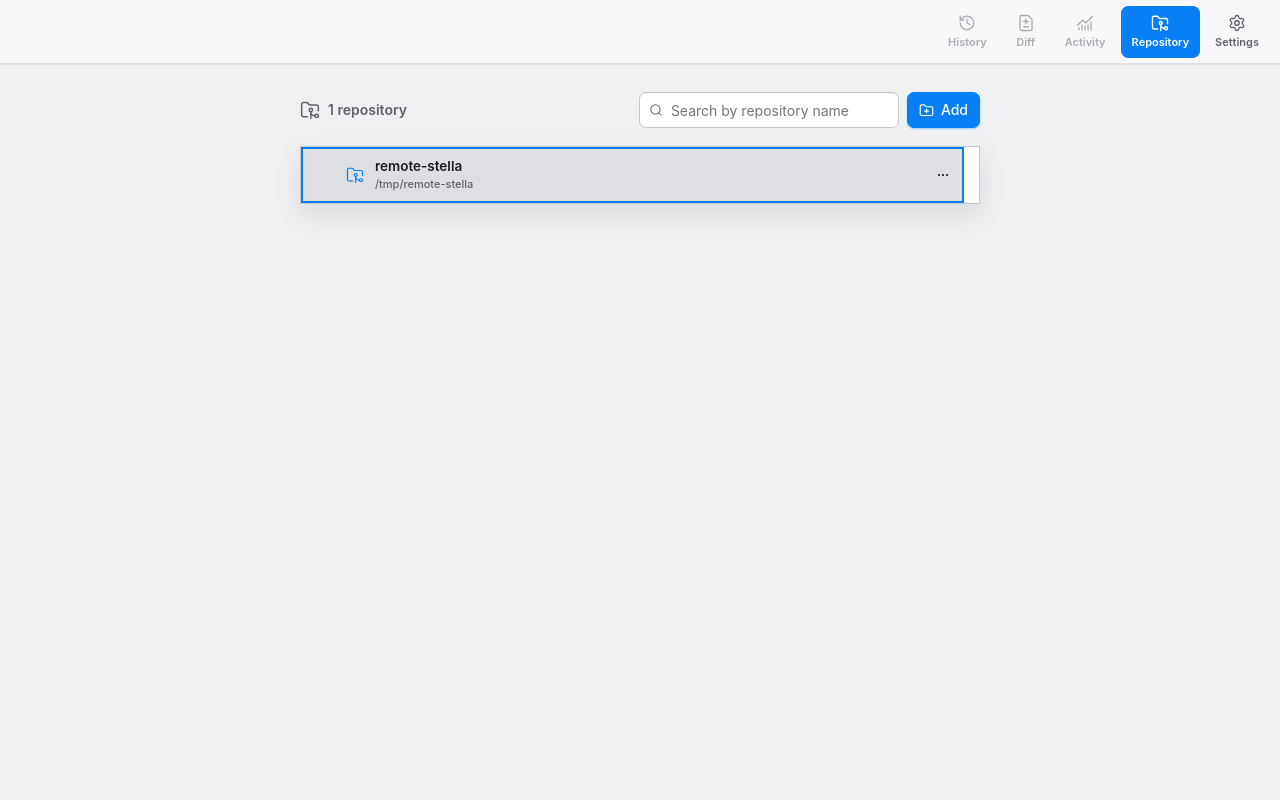
Test: App repository attach › opens repository dialogs over the repository landing without navigating away
Click the button named "More actions for remote-stella" at (943, 175), box [930,162,956,188]
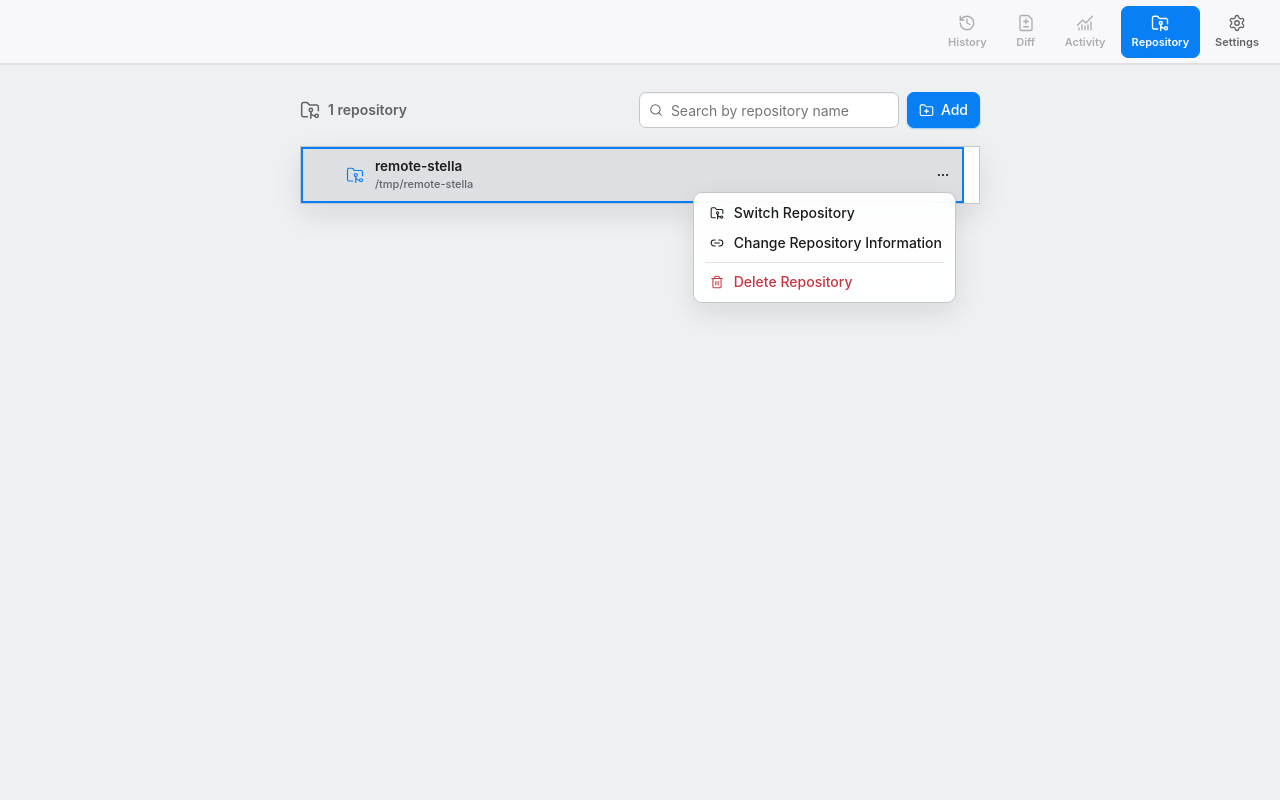
Click the menu item "Change Repository Information" at (824, 243), box [699,228,950,258]
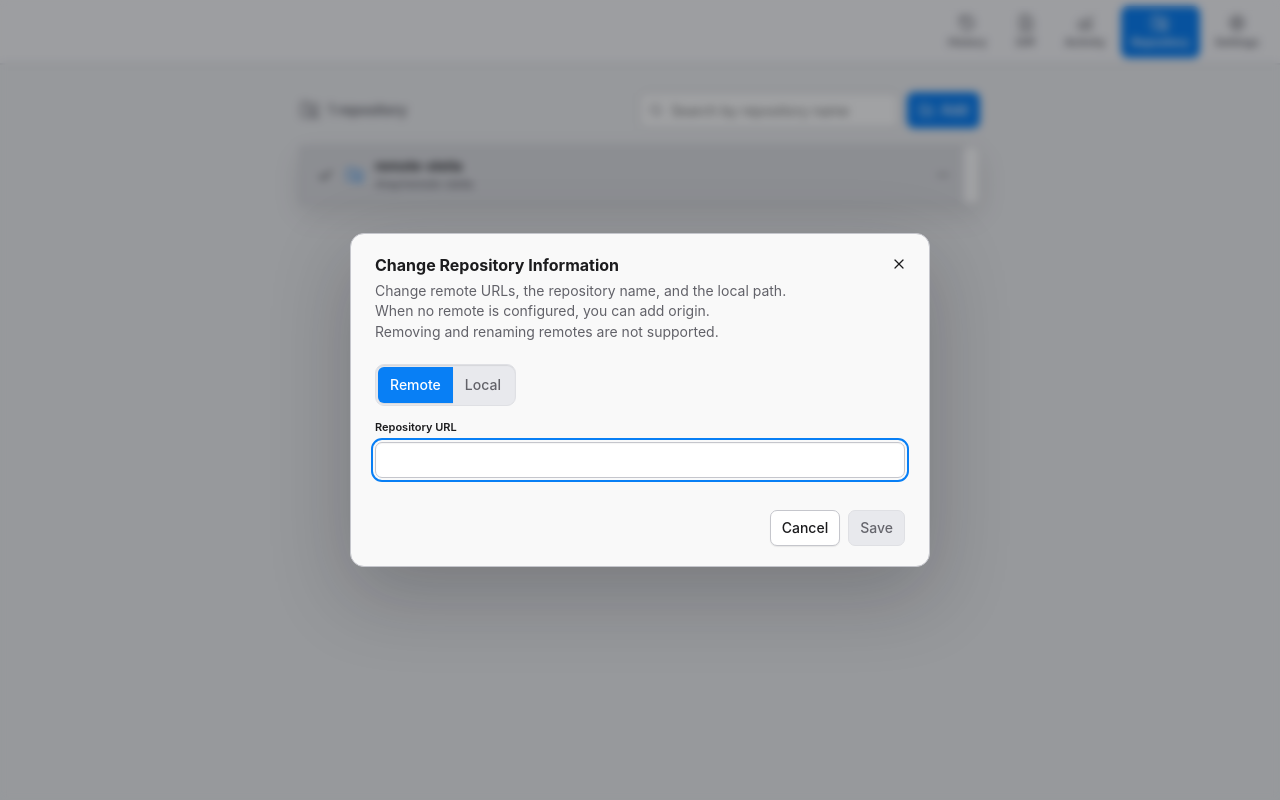
Expected: the element named "Repositories" is shown, [300,92,980,204]
Expected: the dialog "Change Repository Information" is shown, [350,233,930,567]
